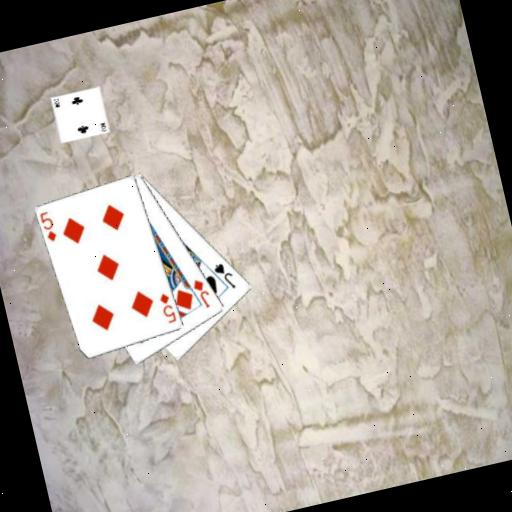5D: (155, 289, 179, 327), (36, 208, 59, 246)
JD: (188, 275, 214, 312)
JS: (209, 258, 238, 294)
